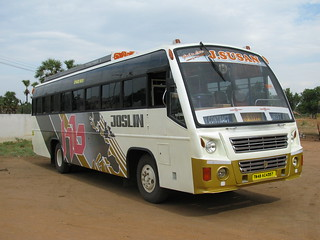bus: (30, 40, 303, 203)
